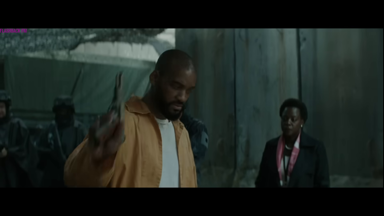firearm: (83, 68, 128, 152)
